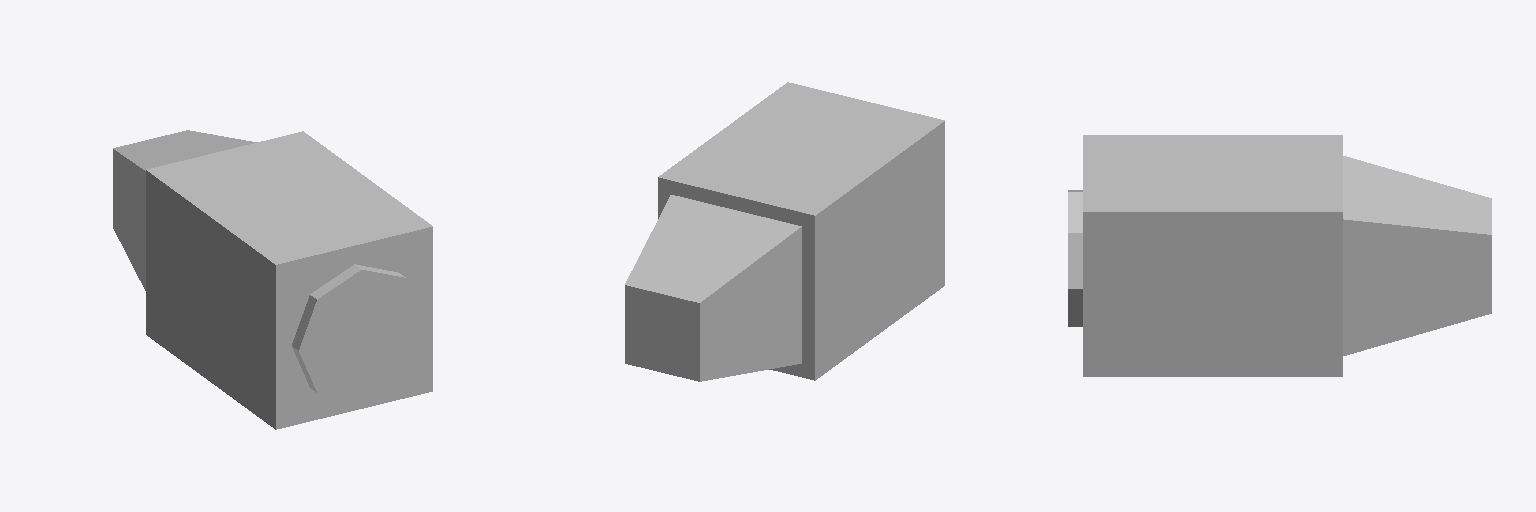
Rendered from windgen_main.obj.
3 renders of one model, left to right at view 1: azimuth 30°, elevation 25°; view 2: azimuth 150°, elevation 25°; view 3: azimuth 270°, elevation 25°, orthographic.
Visible parts, largest first — view 1: windgen_main_pCube17, windgen_main_pCylinder3, windgen_main_pCube18; view 2: windgen_main_pCube17, windgen_main_pCube18; view 3: windgen_main_pCube17, windgen_main_pCube18, windgen_main_pCylinder3.
Part boxes in pixels (bbox=[...]): windgen_main_pCube17: bbox=[146, 131, 432, 429]; windgen_main_pCylinder3: bbox=[292, 264, 424, 400]; windgen_main_pCube18: bbox=[113, 130, 256, 290]; windgen_main_pCube17: bbox=[658, 82, 944, 380]; windgen_main_pCube18: bbox=[625, 195, 801, 381]; windgen_main_pCube17: bbox=[1083, 135, 1342, 376]; windgen_main_pCube18: bbox=[1343, 156, 1491, 355]; windgen_main_pCylinder3: bbox=[1068, 190, 1082, 326].
Size of the model in its own units: 1 by 1 by 2.32.